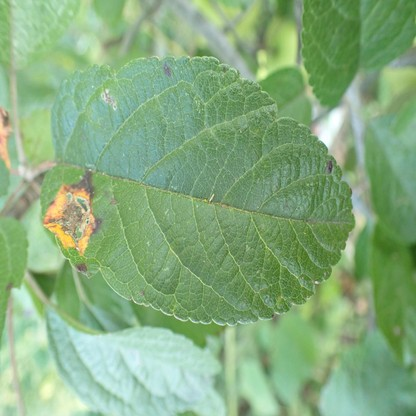rust: (43, 170, 95, 250)
